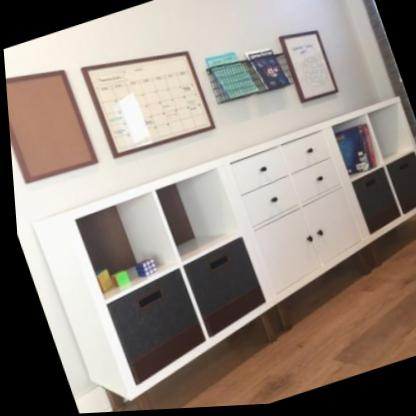Shelf: (21, 95, 416, 414)
